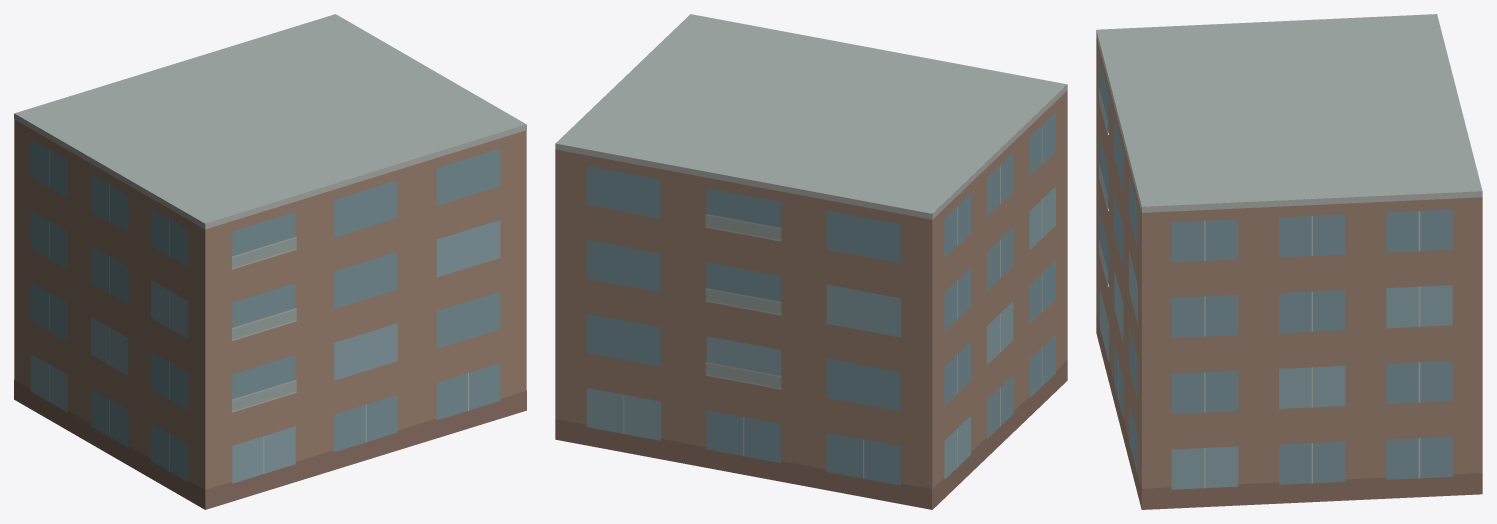
File: residential-2fa7d5fb-3409-430c-8de0-3c84b9a0a2f0.glb
3 views of the same model, side by side, from view 1: azimuth 30°, elevation 25°; view 2: azimuth 150°, elevation 25°; view 3: azimuth 270°, elevation 25° (orthographic). The views are drawn at different scales.
Parts seen in each view (by area): view 1: residential-2fa7d5fb-3409-430c-8de0-3c84b9a0a2f0.tmp; view 2: residential-2fa7d5fb-3409-430c-8de0-3c84b9a0a2f0.tmp; view 3: residential-2fa7d5fb-3409-430c-8de0-3c84b9a0a2f0.tmp.
Part boxes in pixels (x1,y1,x2,y2): residential-2fa7d5fb-3409-430c-8de0-3c84b9a0a2f0.tmp: [14, 14, 526, 509]; residential-2fa7d5fb-3409-430c-8de0-3c84b9a0a2f0.tmp: [555, 14, 1067, 509]; residential-2fa7d5fb-3409-430c-8de0-3c84b9a0a2f0.tmp: [1096, 14, 1482, 509].
Bounding box in the file's own units: 16.66 × 12.2 × 14.1.
